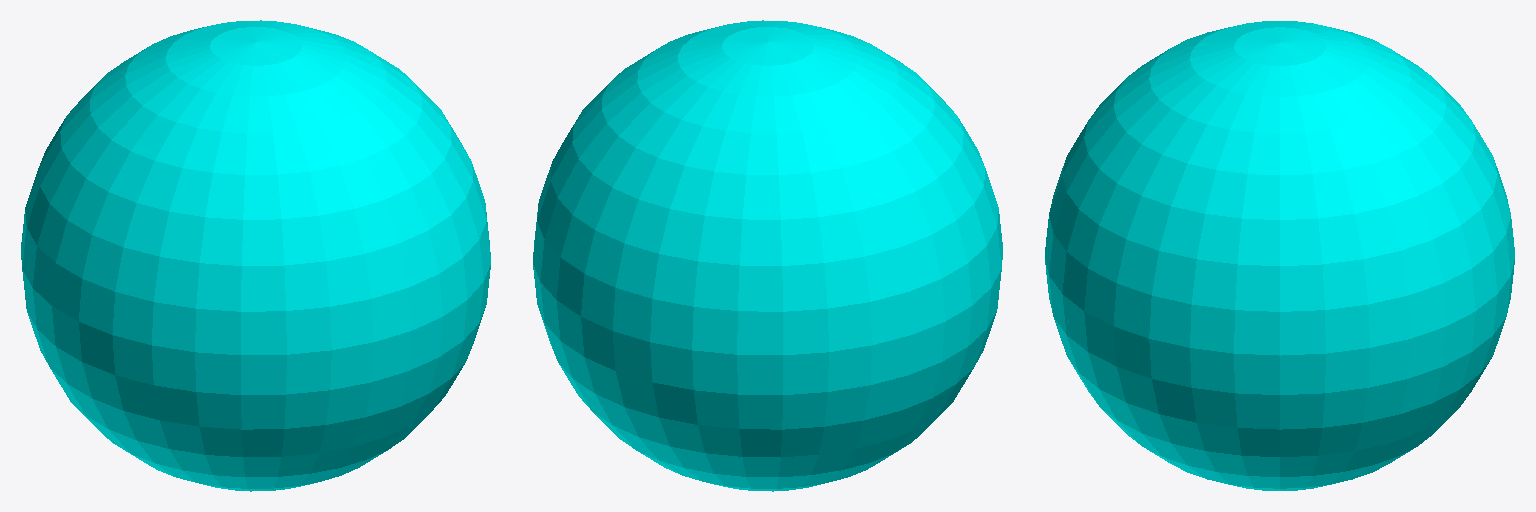
The robot description file, URDF, robot "circle":
<?xml version="1.0" ?>
<robot name="circle">
  <link name="baseLink">
    <contact>
      <lateral_friction value="1.0"/>
      <rolling_friction value="0.0"/>
      <contact_cfm value="0.0"/>
      <contact_erp value="1.0"/>
    </contact>
    <inertial>
      <origin rpy="0 0 0" xyz="0 0 0"/>
       <mass value="1.0"/>
       <inertia ixx="1" ixy="0" ixz="0" iyy="1" iyz="0" izz="1"/>
    </inertial>
    <visual>
      <origin rpy="0 0 0" xyz="0 0 0"/>
      <geometry>
         <sphere radius="1" />
      </geometry>
       <material name="cyan">
        <color rgba="0 1 1 1"/>
      </material>
    </visual>
    <collision>
      <origin rpy="0 0 0" xyz="0 0 0"/>
      <geometry>
         <sphere radius="1" />
      </geometry>
    </collision>
  </link>
</robot>

--- Facts derived from the render (not from the file) ---
The picture shows the robot from 3 angles, left to right: view 1: azimuth 30°, elevation 25°; view 2: azimuth 150°, elevation 25°; view 3: azimuth 270°, elevation 25°; orthographic projection.
Model circle with 1 links and 0 joints (none), rooted at baseLink, posed every joint at zero.
Links seen in each view (by area): view 1: baseLink; view 2: baseLink; view 3: baseLink.
Boxes of the visible links, x1,y1,x2,y2 form: baseLink: (21,20,490,491); baseLink: (533,20,1002,491); baseLink: (1045,21,1514,490).
Size in the robot's own frame: 2 by 2 by 2 metres.
Geometry: primitives only (box / cylinder / sphere), no mesh files.